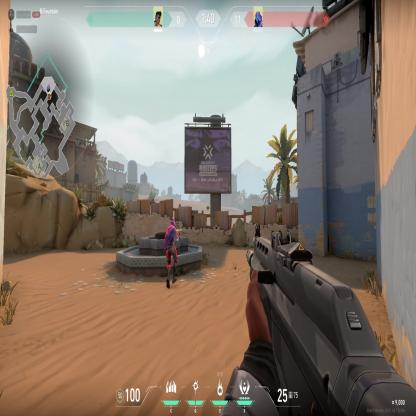enemy: (164, 216, 181, 290)
